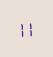one: (19, 20, 25, 37), (26, 20, 32, 36)
